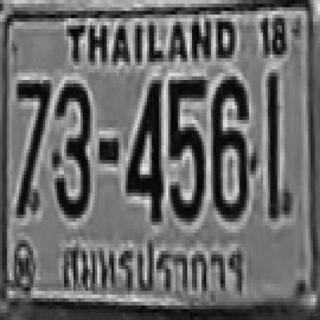N01: (266, 71, 284, 216)
N03: (50, 80, 90, 214)
N04: (124, 76, 162, 218)
N05: (166, 76, 204, 218)
N06: (211, 73, 246, 218)
N07: (14, 78, 50, 213), (14, 80, 50, 200)
P57: (56, 236, 244, 299)
